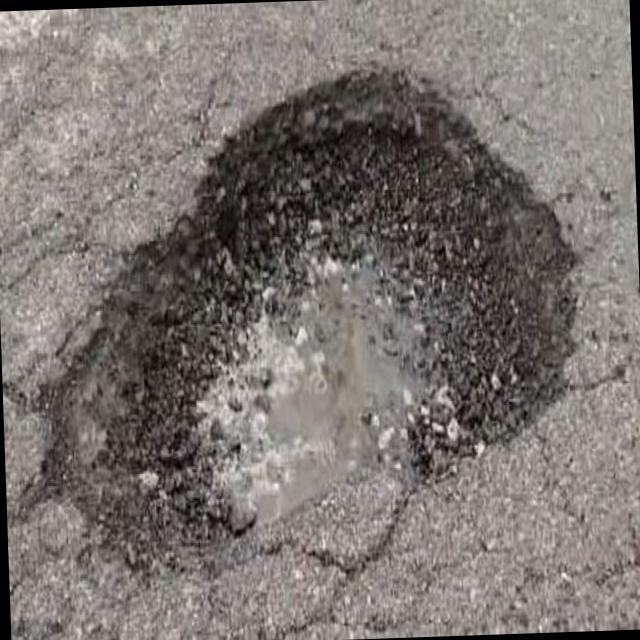Pothole: (15, 49, 595, 605)
